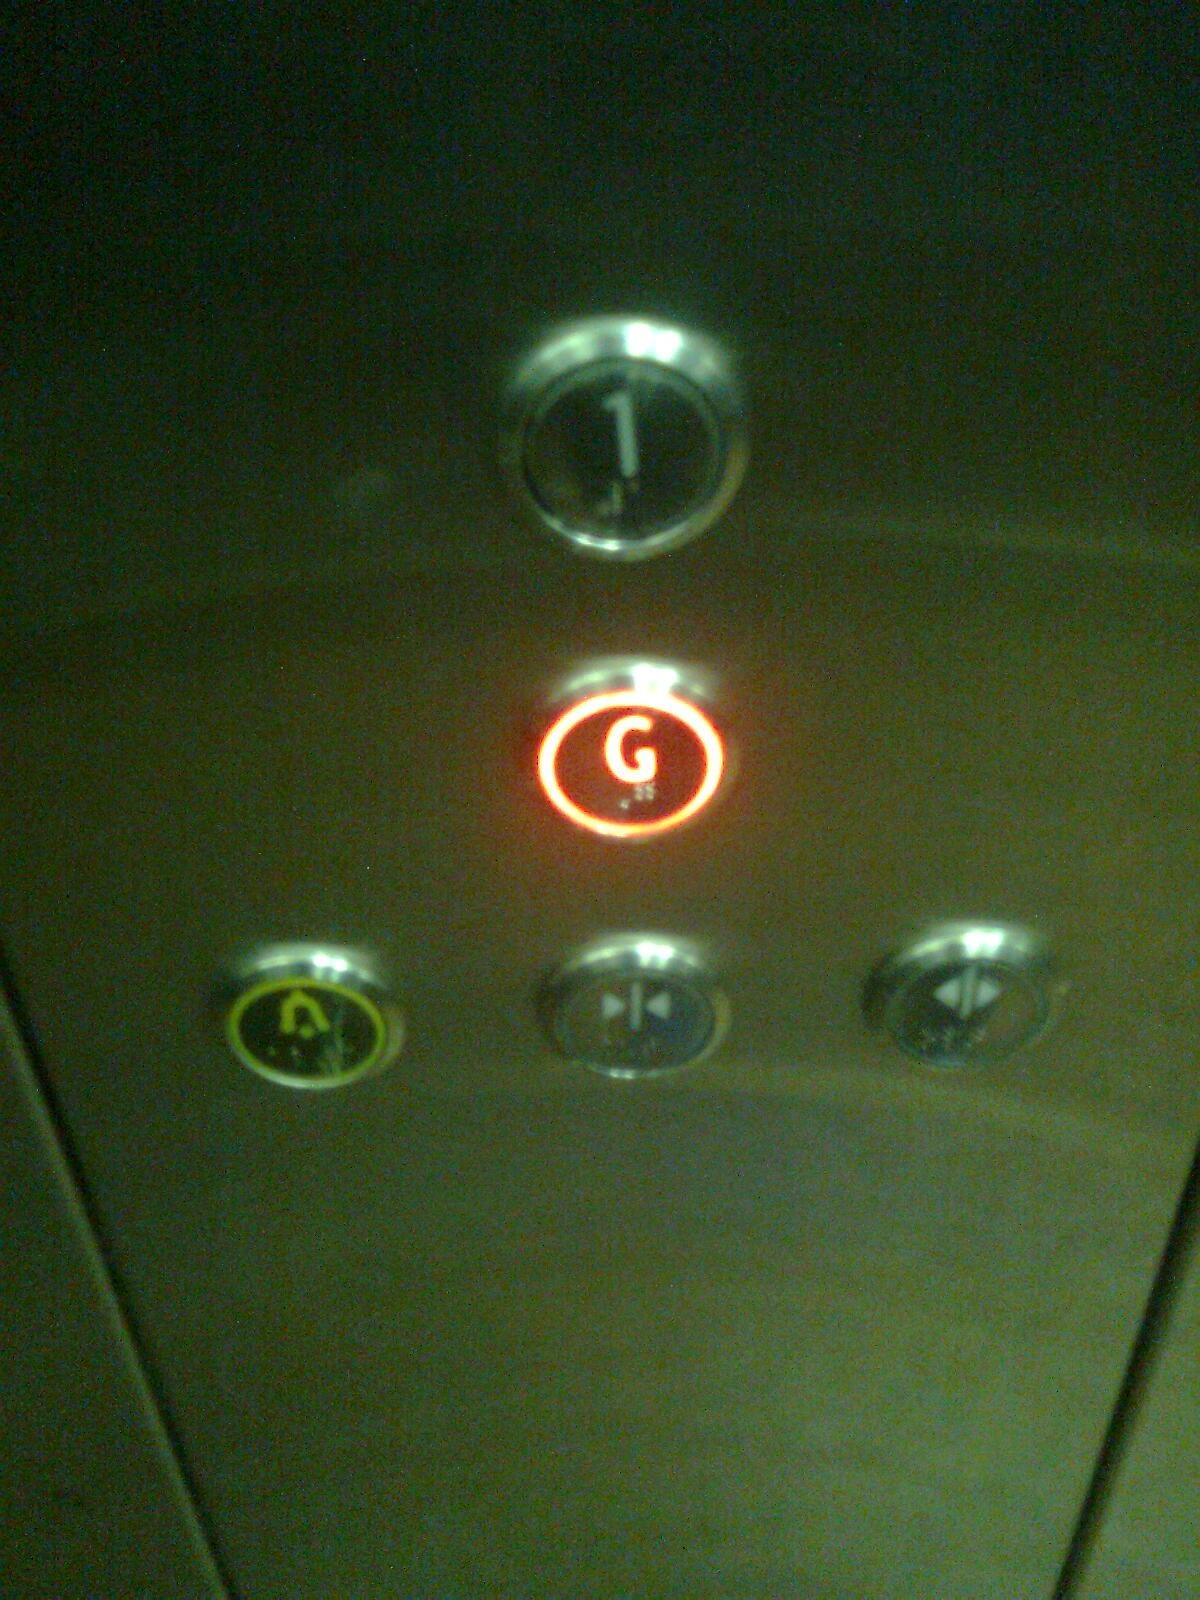1: (490, 312, 766, 569)
G: (513, 655, 741, 854)
alarm: (216, 945, 411, 1100)
close: (538, 934, 734, 1089)
open: (867, 920, 1063, 1075)
